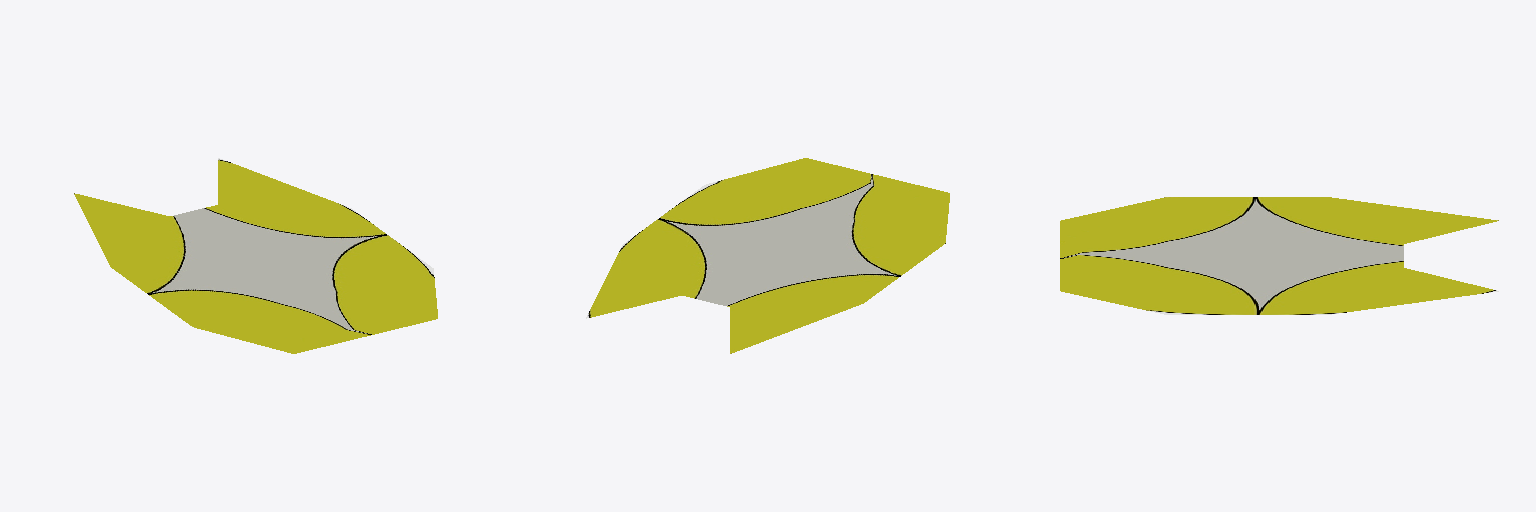
3 views of the same model, side by side, from view 1: azimuth 30°, elevation 25°; view 2: azimuth 150°, elevation 25°; view 3: azimuth 270°, elevation 25° (orthographic).
Parts seen in each view (by area): view 1: Roof.Struct.Face_Cube.002; view 2: Roof.Struct.Face_Cube.002; view 3: Roof.Struct.Face_Cube.002.
Part boxes in pixels (x1,y1,x2,y2): Roof.Struct.Face_Cube.002: (74, 158, 437, 353); Roof.Struct.Face_Cube.002: (586, 158, 949, 353); Roof.Struct.Face_Cube.002: (1060, 197, 1498, 314).
Bounding box in the file's own units: 2.39 × 0 × 3.78.
1 materials, 1 textured.